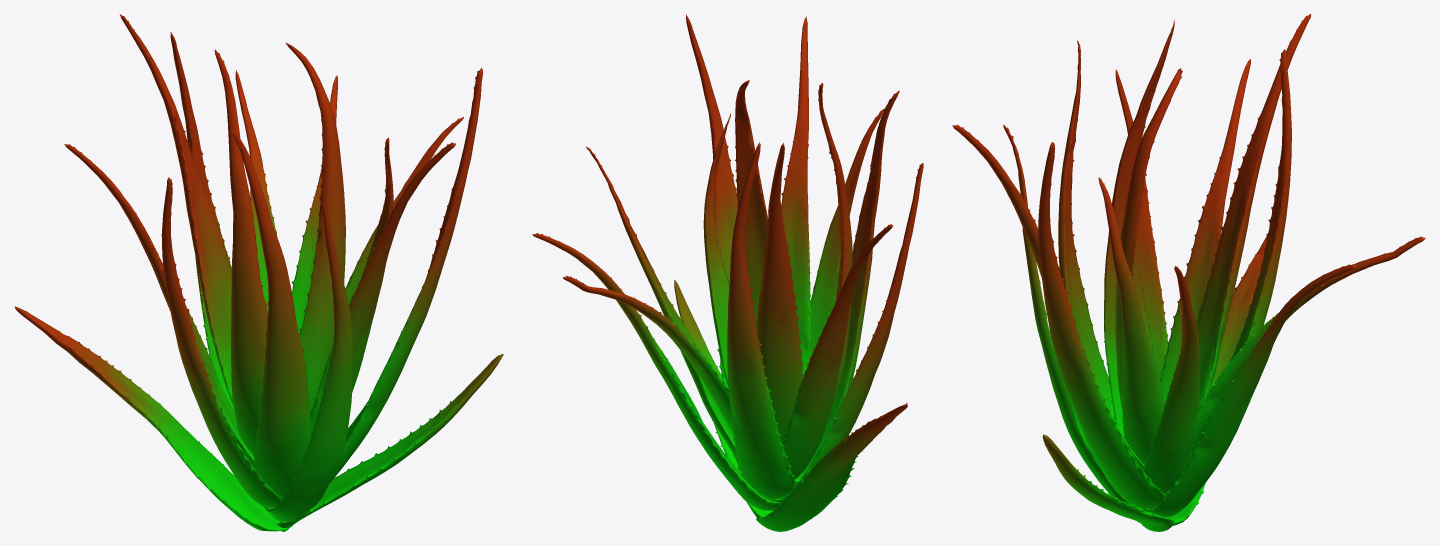
Rendered from Aloe Vera_LOD2_Var10_ve4tbbrha.fbx.
The picture shows the model from 3 angles, left to right: view 1: azimuth 30°, elevation 25°; view 2: azimuth 150°, elevation 25°; view 3: azimuth 270°, elevation 25°; orthographic projection. The views are drawn at different scales.
Visible parts, largest first — view 1: _rubi_Var10_LOD2; view 2: _rubi_Var10_LOD2; view 3: _rubi_Var10_LOD2.
Part boxes in pixels (x1,y1,x2,y2): _rubi_Var10_LOD2: (14,14,503,531); _rubi_Var10_LOD2: (532,14,923,531); _rubi_Var10_LOD2: (952,14,1425,531).
Bounding box in the file's own units: 42.1 × 49.64 × 44.07.
